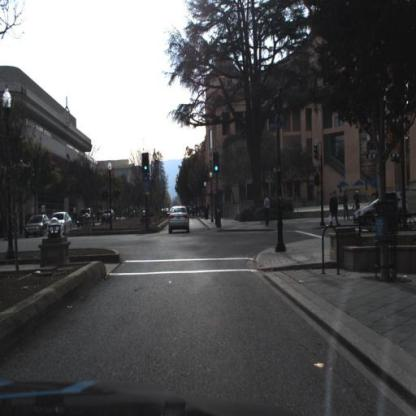biker: (349, 189, 366, 225), (351, 189, 361, 210)
car: (351, 194, 413, 225), (168, 204, 191, 235), (25, 214, 52, 239), (46, 211, 75, 233), (75, 206, 95, 229)
pedestrian: (328, 190, 340, 234), (263, 194, 273, 227)
trafficLight-Green: (142, 153, 150, 173), (214, 153, 220, 175)
